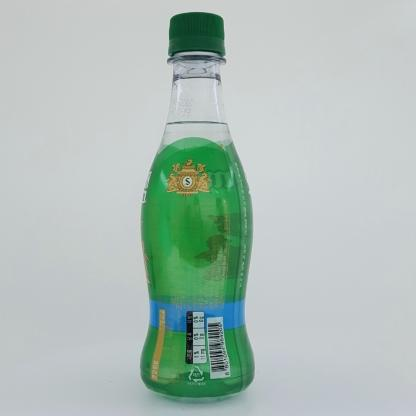--------350ML: (140, 12, 255, 403)
